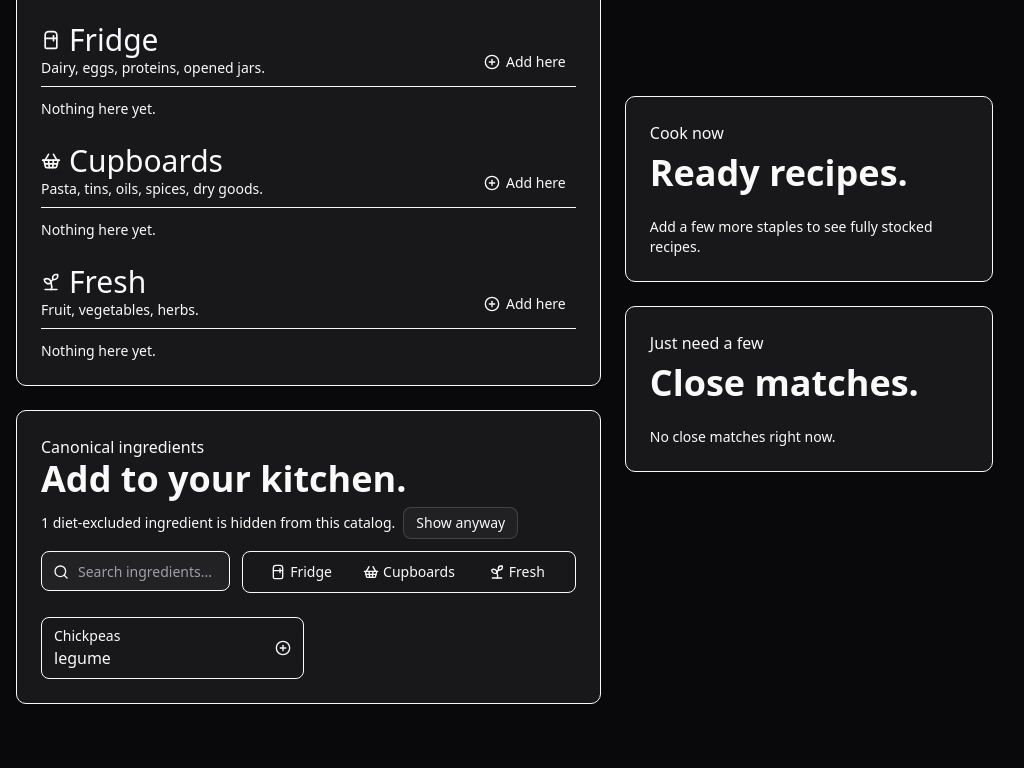
KitchenView diet ingredient catalog › hides excluded ingredients and supports a temporary override
The image size is (1024, 768).
(page scrolled)
Expected: the button with aria-label "add chickpeas" is shown, [41,617,304,679]
Step 1. Click the button "Show anyway" → [461, 523], box [403,507,518,539]
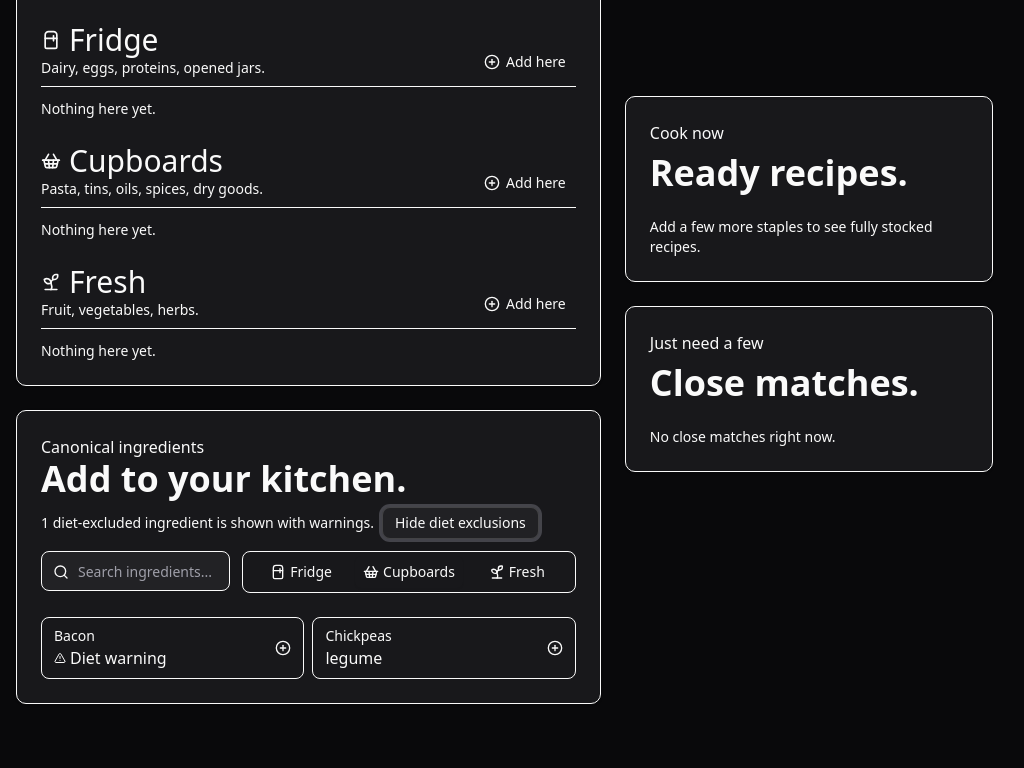
Now the button with aria-label "add bacon — diet warning" is shown, box [41,617,304,679]
Now the text "Diet warning" is shown, box [54,646,167,670]
Now the button "Hide diet exclusions" is shown, box [382,507,539,539]
